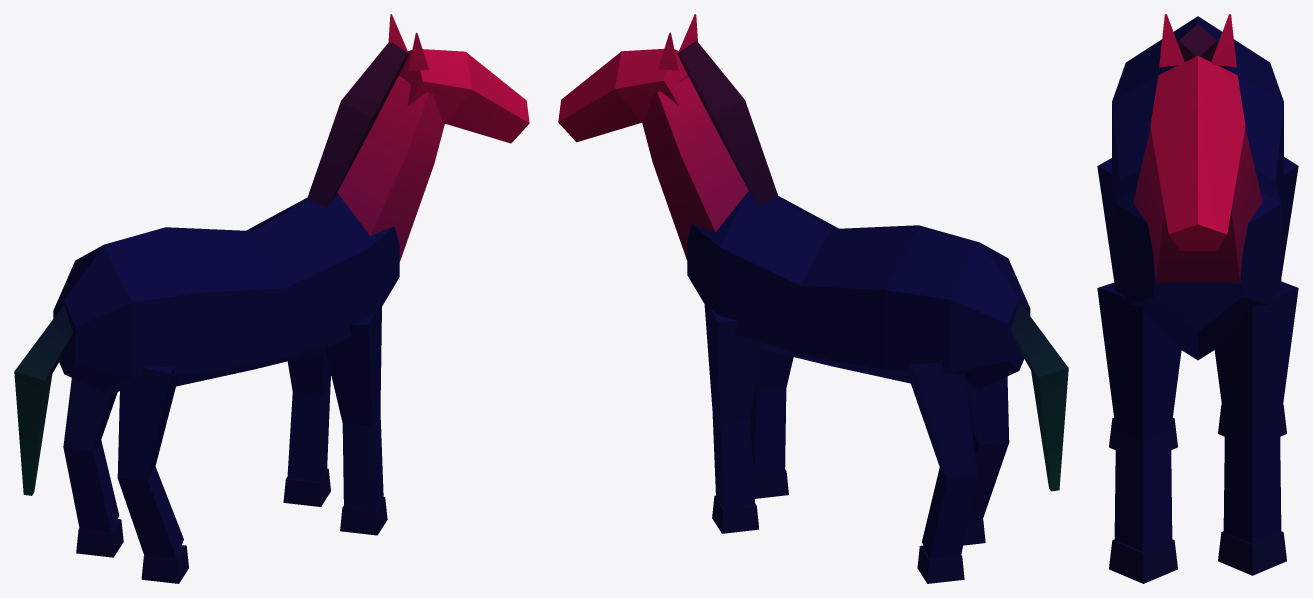
Rendered from ns-horse-a.glb.
3 views of the same model, side by side, from view 1: azimuth 30°, elevation 25°; view 2: azimuth 150°, elevation 25°; view 3: azimuth 270°, elevation 25° (orthographic). The views are drawn at different scales.
Visible parts, largest first — view 1: Sculpted silhouette, Tapered form.008, Tapered form.006, Tapered form.002, Tapered form.009, Tapered form.004, Tapered form.012, Tapered form.013, Tapered form, Tapered form.007, Tapered form.001, Tapered form.005 (+1 smaller); view 2: Sculpted silhouette, Tapered form.008, Tapered form.004, Tapered form, Tapered form.009, Tapered form.012, Tapered form.013, Tapered form.002, Tapered form.006, Tapered form.005, Tapered form.001, Tapered form.003; view 3: Sculpted silhouette, Tapered form.002, Tapered form, Tapered form.009, Tapered form.008, Tapered form.003, Tapered form.001, Tapered form.012, Tapered form.006, Tapered form.004, Tapered form.010, Tapered form.011 (+2 smaller).
Boxes of the visible parts, <box> form: Sculpted silhouette: <box>53,193,399,392</box>; Tapered form.008: <box>337,76,444,261</box>; Tapered form.006: <box>117,366,183,559</box>; Tapered form.002: <box>325,307,383,510</box>; Tapered form.009: <box>399,49,529,143</box>; Tapered form.004: <box>63,378,119,532</box>; Tapered form.012: <box>307,41,409,207</box>; Tapered form.013: <box>14,304,72,495</box>; Tapered form: <box>287,352,331,482</box>; Tapered form.007: <box>141,545,188,583</box>; Tapered form.001: <box>283,468,330,506</box>; Tapered form.005: <box>76,519,123,557</box>; Sculpted silhouette: <box>687,191,1030,388</box>; Tapered form.008: <box>642,75,748,260</box>; Tapered form.004: <box>908,362,977,559</box>; Tapered form: <box>704,305,762,509</box>; Tapered form.009: <box>558,48,687,142</box>; Tapered form.012: <box>677,41,778,205</box>; Tapered form.013: <box>1010,302,1068,491</box>; Tapered form.002: <box>750,349,793,474</box>; Tapered form.006: <box>966,376,1009,520</box>; Tapered form.005: <box>917,545,964,583</box>; Tapered form.001: <box>712,495,759,533</box>; Tapered form.003: <box>753,469,788,498</box>; Sculpted silhouette: <box>1112,16,1283,360</box>; Tapered form.002: <box>1097,282,1181,551</box>; Tapered form: <box>1214,281,1298,544</box>; Tapered form.009: <box>1150,56,1245,250</box>; Tapered form.008: <box>1133,128,1262,283</box>; Tapered form.003: <box>1109,539,1177,583</box>; Tapered form.001: <box>1218,531,1286,575</box>; Tapered form.012: <box>1169,24,1226,69</box>; Tapered form.006: <box>1097,158,1114,281</box>; Tapered form.004: <box>1281,157,1298,276</box>; Tapered form.010: <box>1159,14,1184,67</box>; Tapered form.011: <box>1211,14,1236,67</box>.
Bounding box in the file's own units: 1.16 × 1.02 × 0.314.
